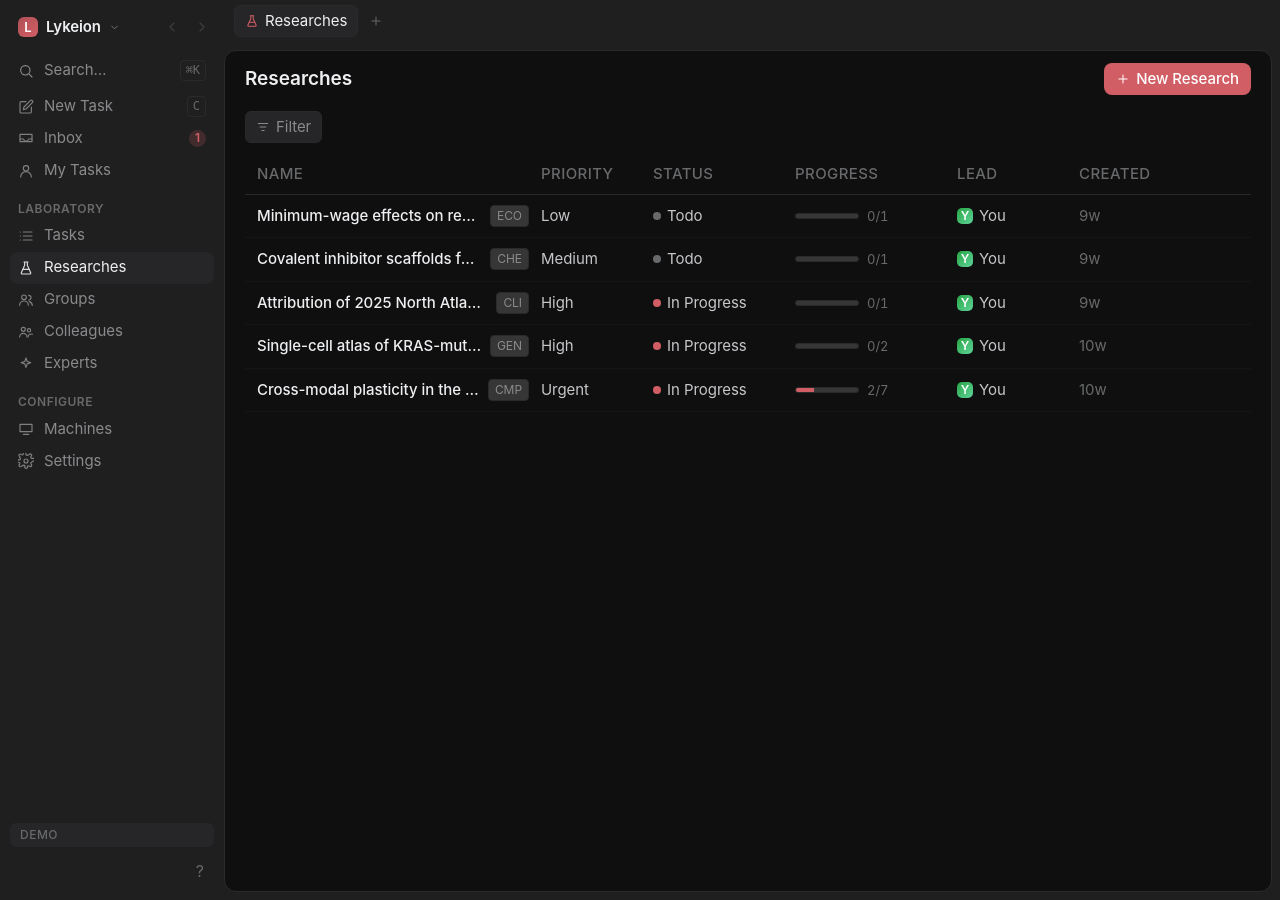
Lykeion shell › a Research opens the chat entry
The image size is (1280, 900).
Click the text "Cross-modal plasticity in the brain": (368, 390) x1=257 y1=378 x2=480 y2=401
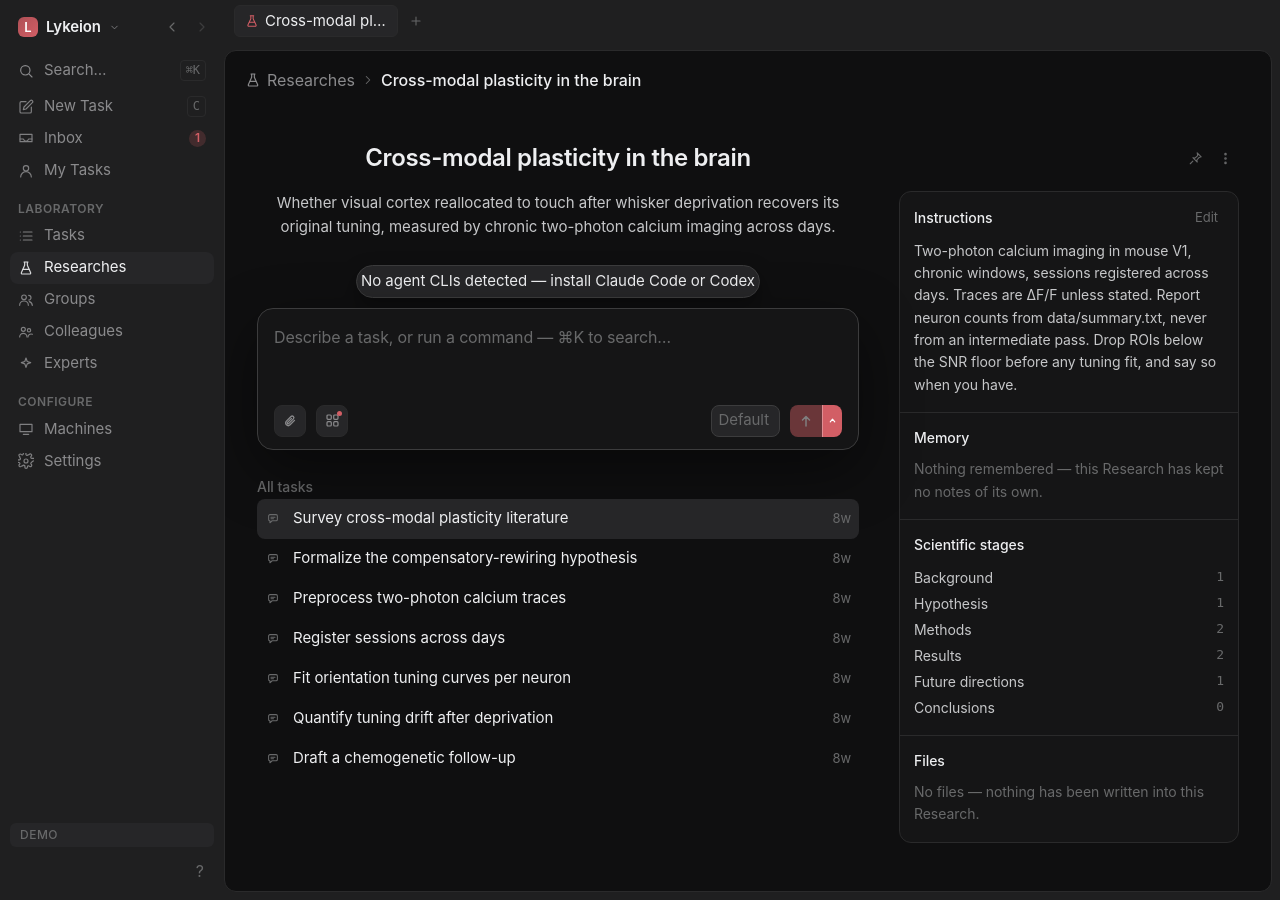
Result: the element named "Start a task" is shown at x1=257 y1=265 x2=859 y2=450
